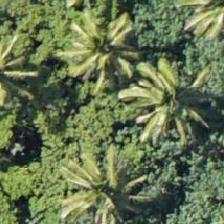coconut_tree: (124, 49, 214, 139), (60, 8, 150, 98), (46, 136, 136, 223)
